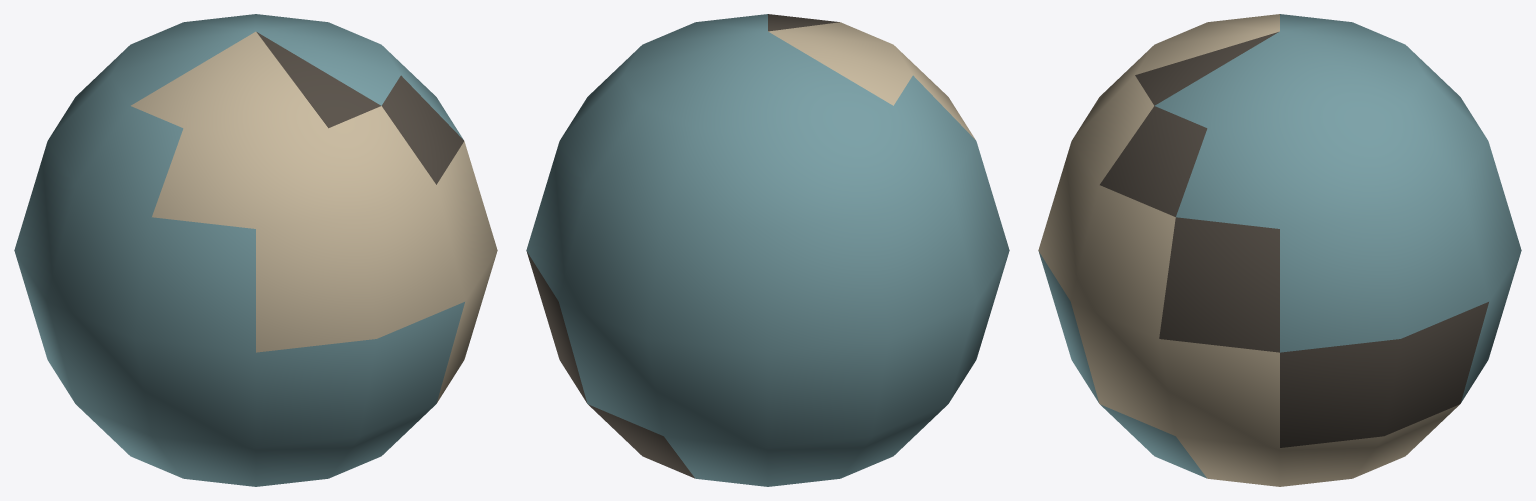
File: marble.glb
3 views of the same model, side by side, from view 1: azimuth 30°, elevation 25°; view 2: azimuth 150°, elevation 25°; view 3: azimuth 270°, elevation 25° (orthographic).
Parts seen in each view (by area): view 1: marble; view 2: marble; view 3: marble.
Part boxes in pixels (bbox=[...]): marble: bbox=[14, 14, 497, 486]; marble: bbox=[526, 14, 1009, 486]; marble: bbox=[1038, 14, 1521, 486].
Bounding box in the file's own units: 0.016 × 0.016 × 0.016.
